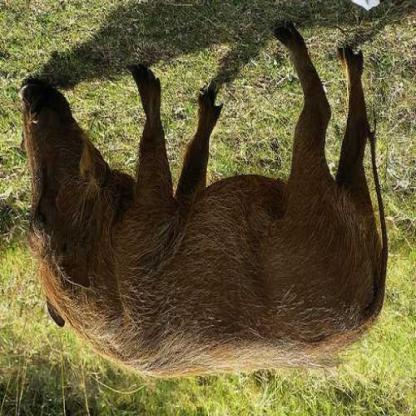boar: (28, 49, 375, 380)
